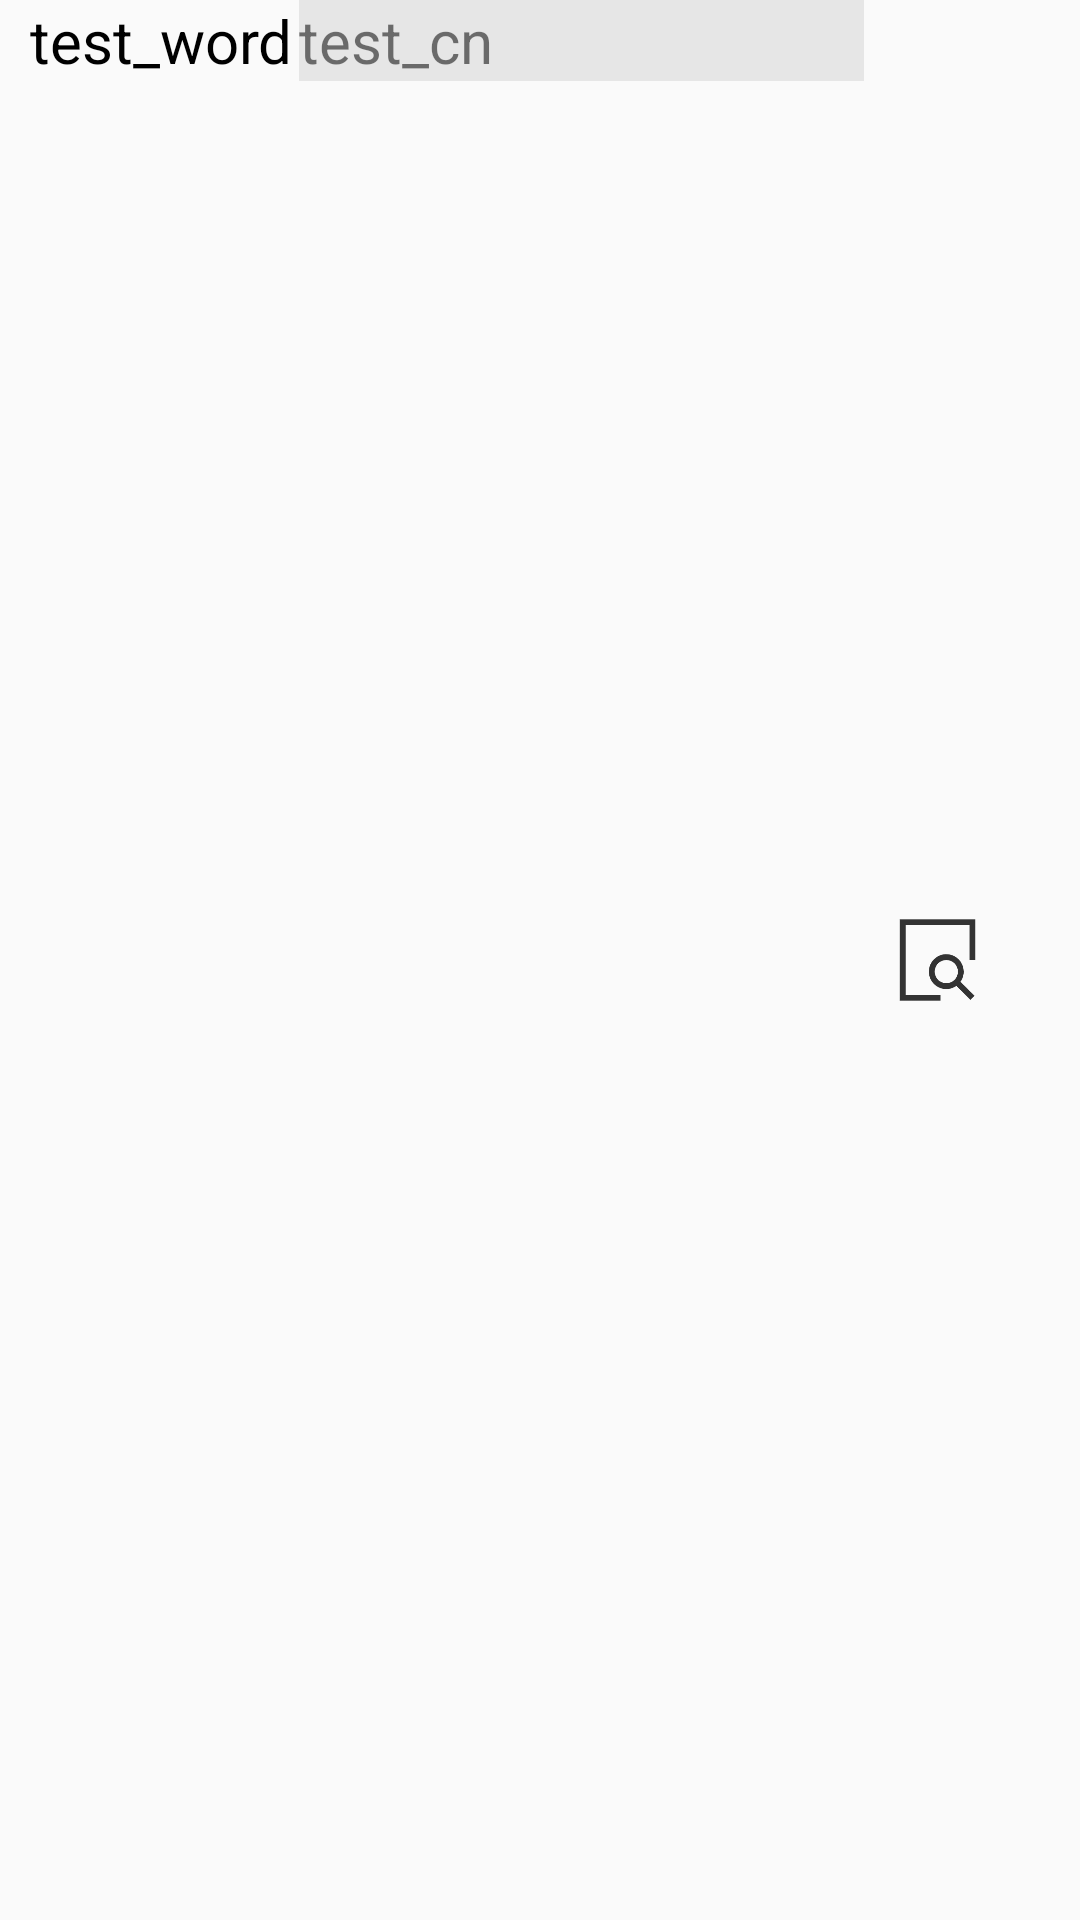

Locate icon controls on the screen. Image size 1080×1920, boxes as (x1, y1, x2, y2).
chakan: (899, 919, 976, 1001)
